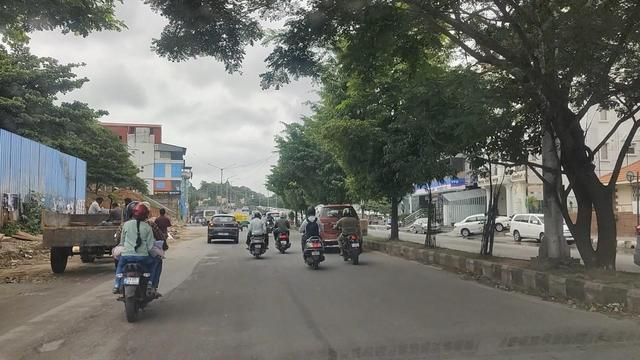LMV: (119, 203, 159, 316), (342, 201, 367, 262), (301, 207, 326, 265), (209, 213, 240, 241), (248, 210, 265, 255), (274, 210, 292, 248)
RoadDamages: (2, 311, 97, 360), (95, 320, 158, 358)
